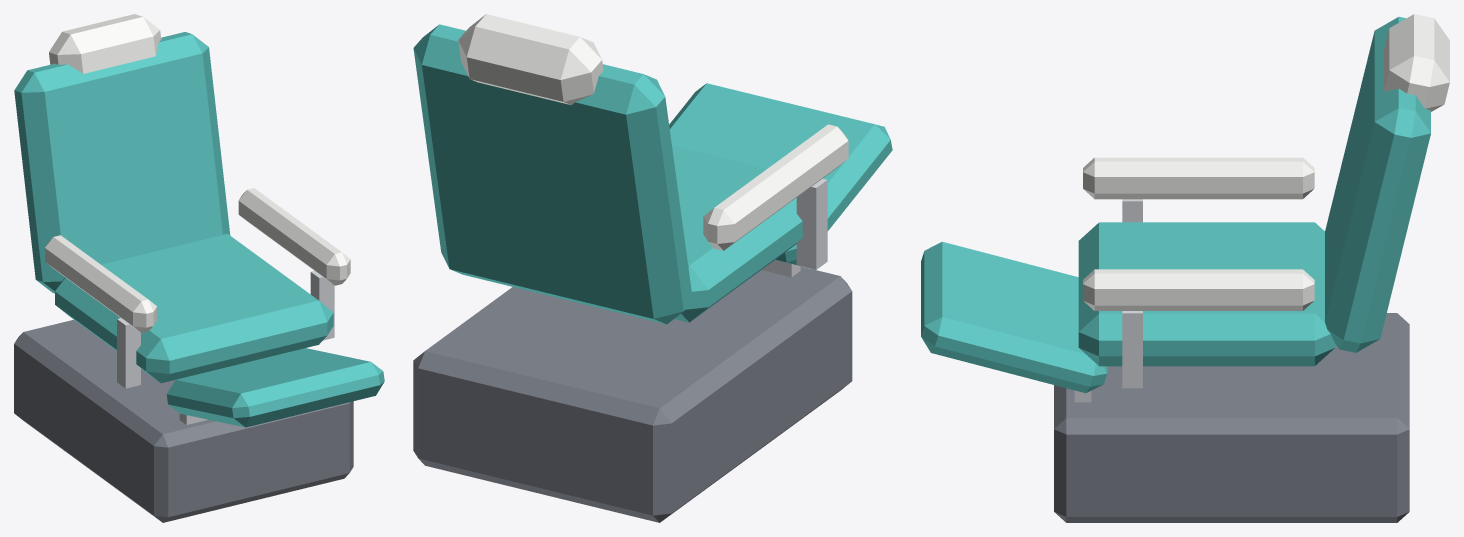
File: medical-23617.glb
3 views of the same model, side by side, from view 1: azimuth 30°, elevation 25°; view 2: azimuth 150°, elevation 25°; view 3: azimuth 270°, elevation 25° (orthographic). The views are drawn at different scales.
Parts seen in each view (by area): view 1: recovery-bay-chair; view 2: recovery-bay-chair; view 3: recovery-bay-chair.
Part boxes in pixels (box(x1,y1,x2,y2)): recovery-bay-chair: box(14, 14, 384, 522); recovery-bay-chair: box(413, 14, 892, 522); recovery-bay-chair: box(921, 14, 1449, 522).
Bounding box in the file's own units: 0.72 × 1.16 × 1.28.
